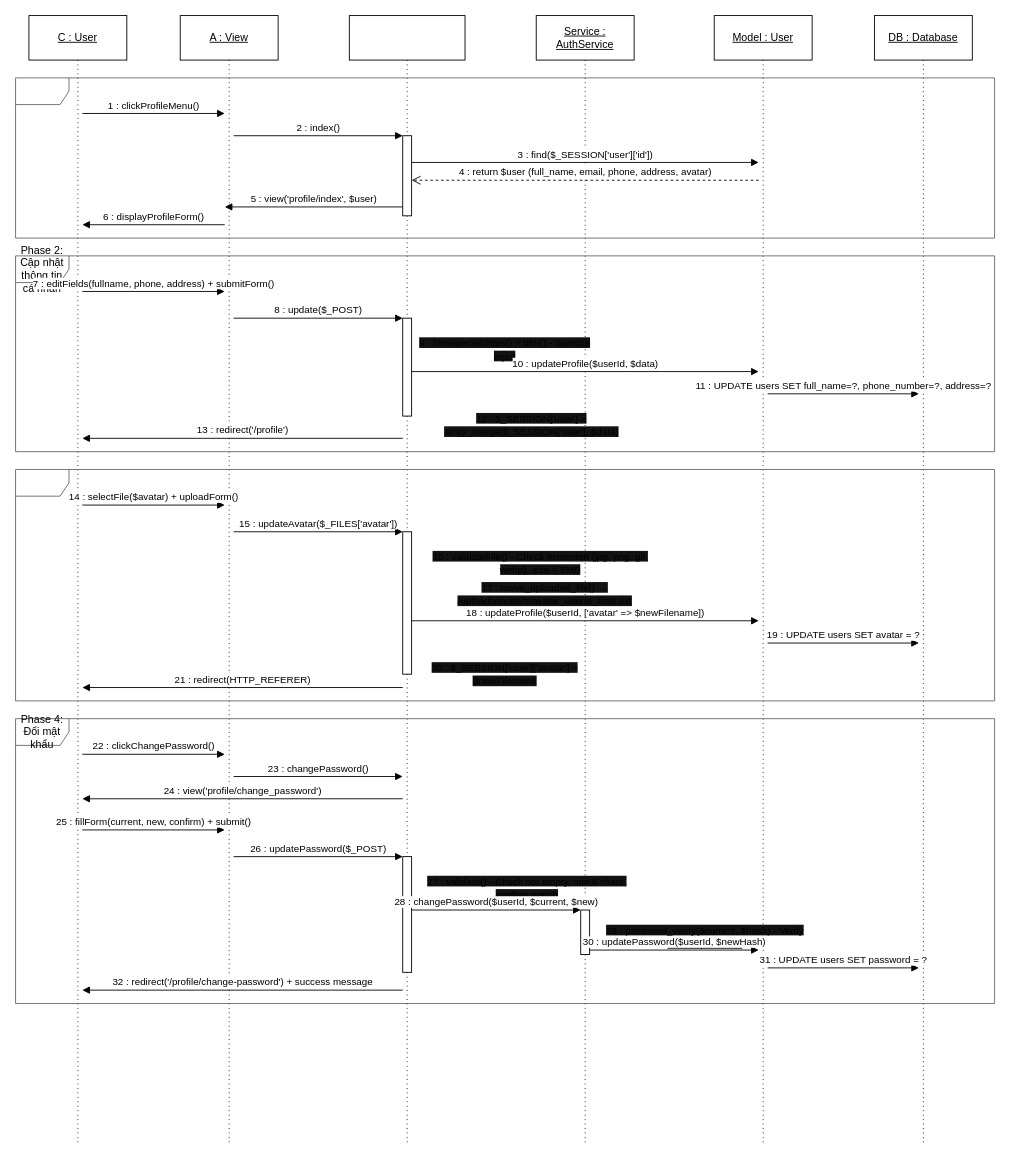
Image size: 1010x1162. Some labels were removed from this diagram. Each missing label, with the box of its shape:
Controller : ProfileController: (348, 15, 465, 60)
Phase 1: Xem thông tin hồ sơ: (15, 77, 995, 238)
Phase 3: Cập nhật ảnh đại diện: (15, 469, 995, 701)
